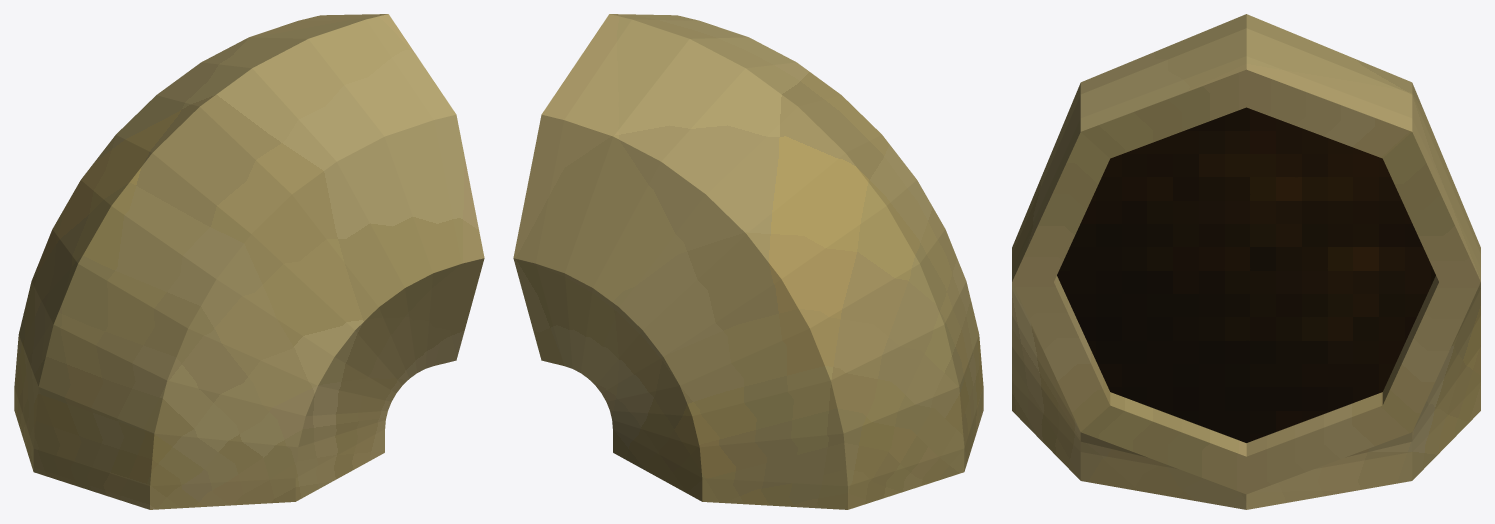
The model's file is pipebend.obj.
3 views of the same model, side by side, from view 1: azimuth 30°, elevation 25°; view 2: azimuth 150°, elevation 25°; view 3: azimuth 270°, elevation 25° (orthographic). The views are drawn at different scales.
Parts seen in each view (by area): view 1: Cube.001_Cube.000; view 2: Cube.001_Cube.000; view 3: Cube.001_Cube.000.
Part boxes in pixels (x1=…): Cube.001_Cube.000: x1=14, y1=14, x2=484, y2=509; Cube.001_Cube.000: x1=513, y1=14, x2=983, y2=509; Cube.001_Cube.000: x1=1012, y1=14, x2=1480, y2=509.
Bounding box in the file's own units: 0.47 × 0.47 × 0.44.
